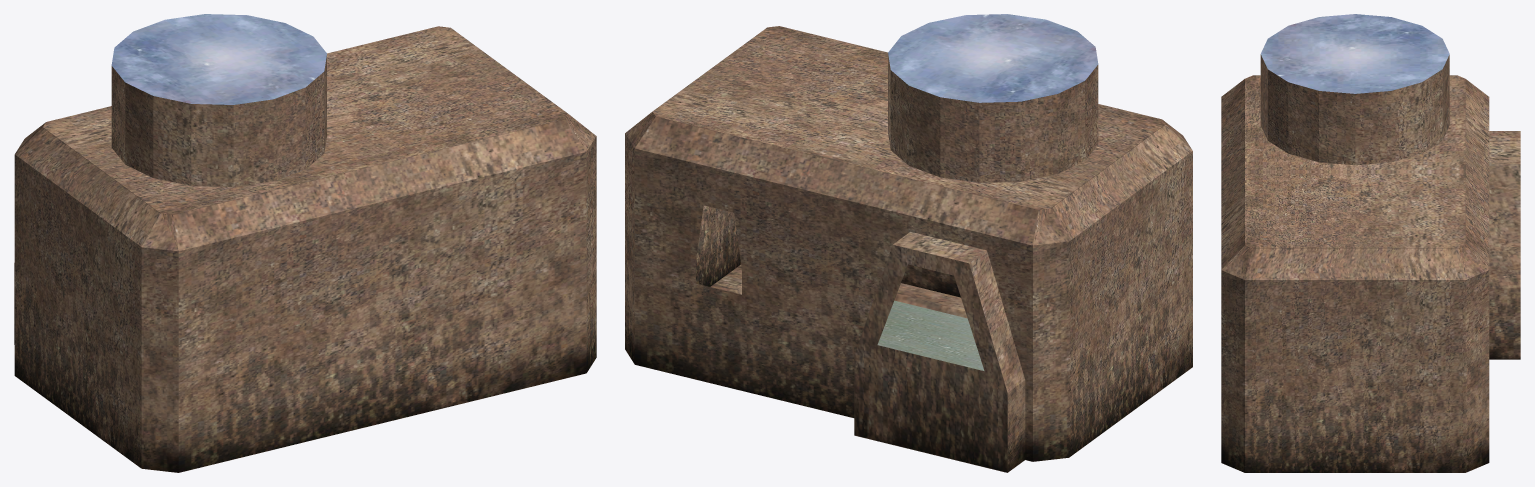
File: thm_tato_jabbas_palace_r32_jail3_mesh_r32.fbx
The picture shows the model from 3 angles, left to right: view 1: azimuth 30°, elevation 25°; view 2: azimuth 150°, elevation 25°; view 3: azimuth 270°, elevation 25°; orthographic projection. The views are drawn at different scales.
Visible parts, largest first — view 1: mesh_node; view 2: mesh_node; view 3: mesh_node.
Part boxes in pixels (x1=…): mesh_node: x1=14, y1=14, x2=596, y2=472; mesh_node: x1=625, y1=14, x2=1192, y2=472; mesh_node: x1=1221, y1=14, x2=1520, y2=472.
Bounding box in the file's own units: 5.8 × 4.1 × 3.8.
